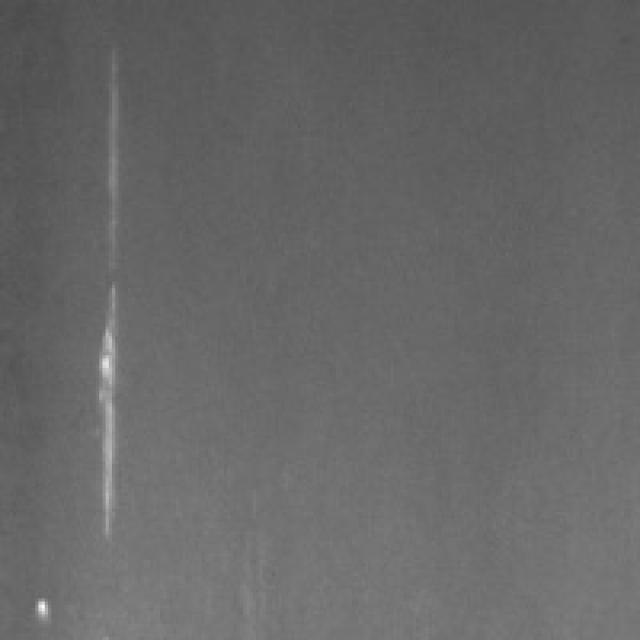scratches: (80, 35, 134, 544), (22, 586, 52, 624)
